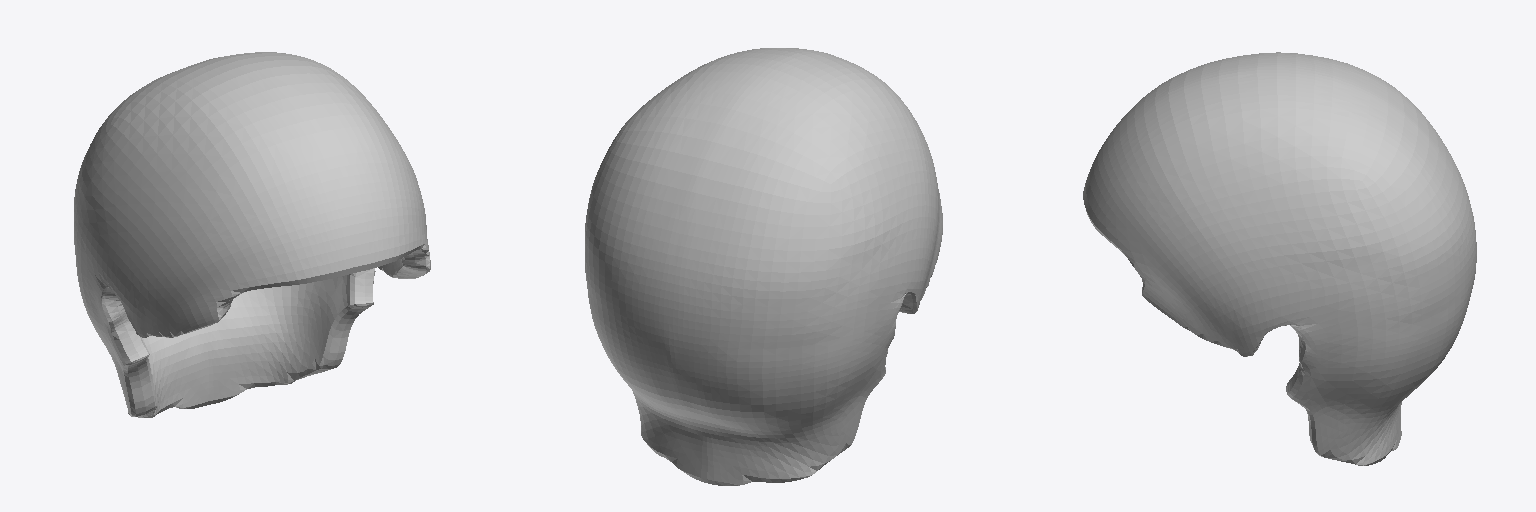
3 renders of one model, left to right at view 1: azimuth 30°, elevation 25°; view 2: azimuth 150°, elevation 25°; view 3: azimuth 270°, elevation 25°, orthographic.
Parts seen in each view (by area): view 1: jessskullthickP; view 2: jessskullthickP; view 3: jessskullthickP.
Boxes of the visible parts, x1=… form: jessskullthickP: x1=74, y1=52, x2=430, y2=417; jessskullthickP: x1=585, y1=48, x2=942, y2=485; jessskullthickP: x1=1083, y1=52, x2=1476, y2=465.
Size of the model in its own units: 0.0776 by 0.0963 by 0.0919.